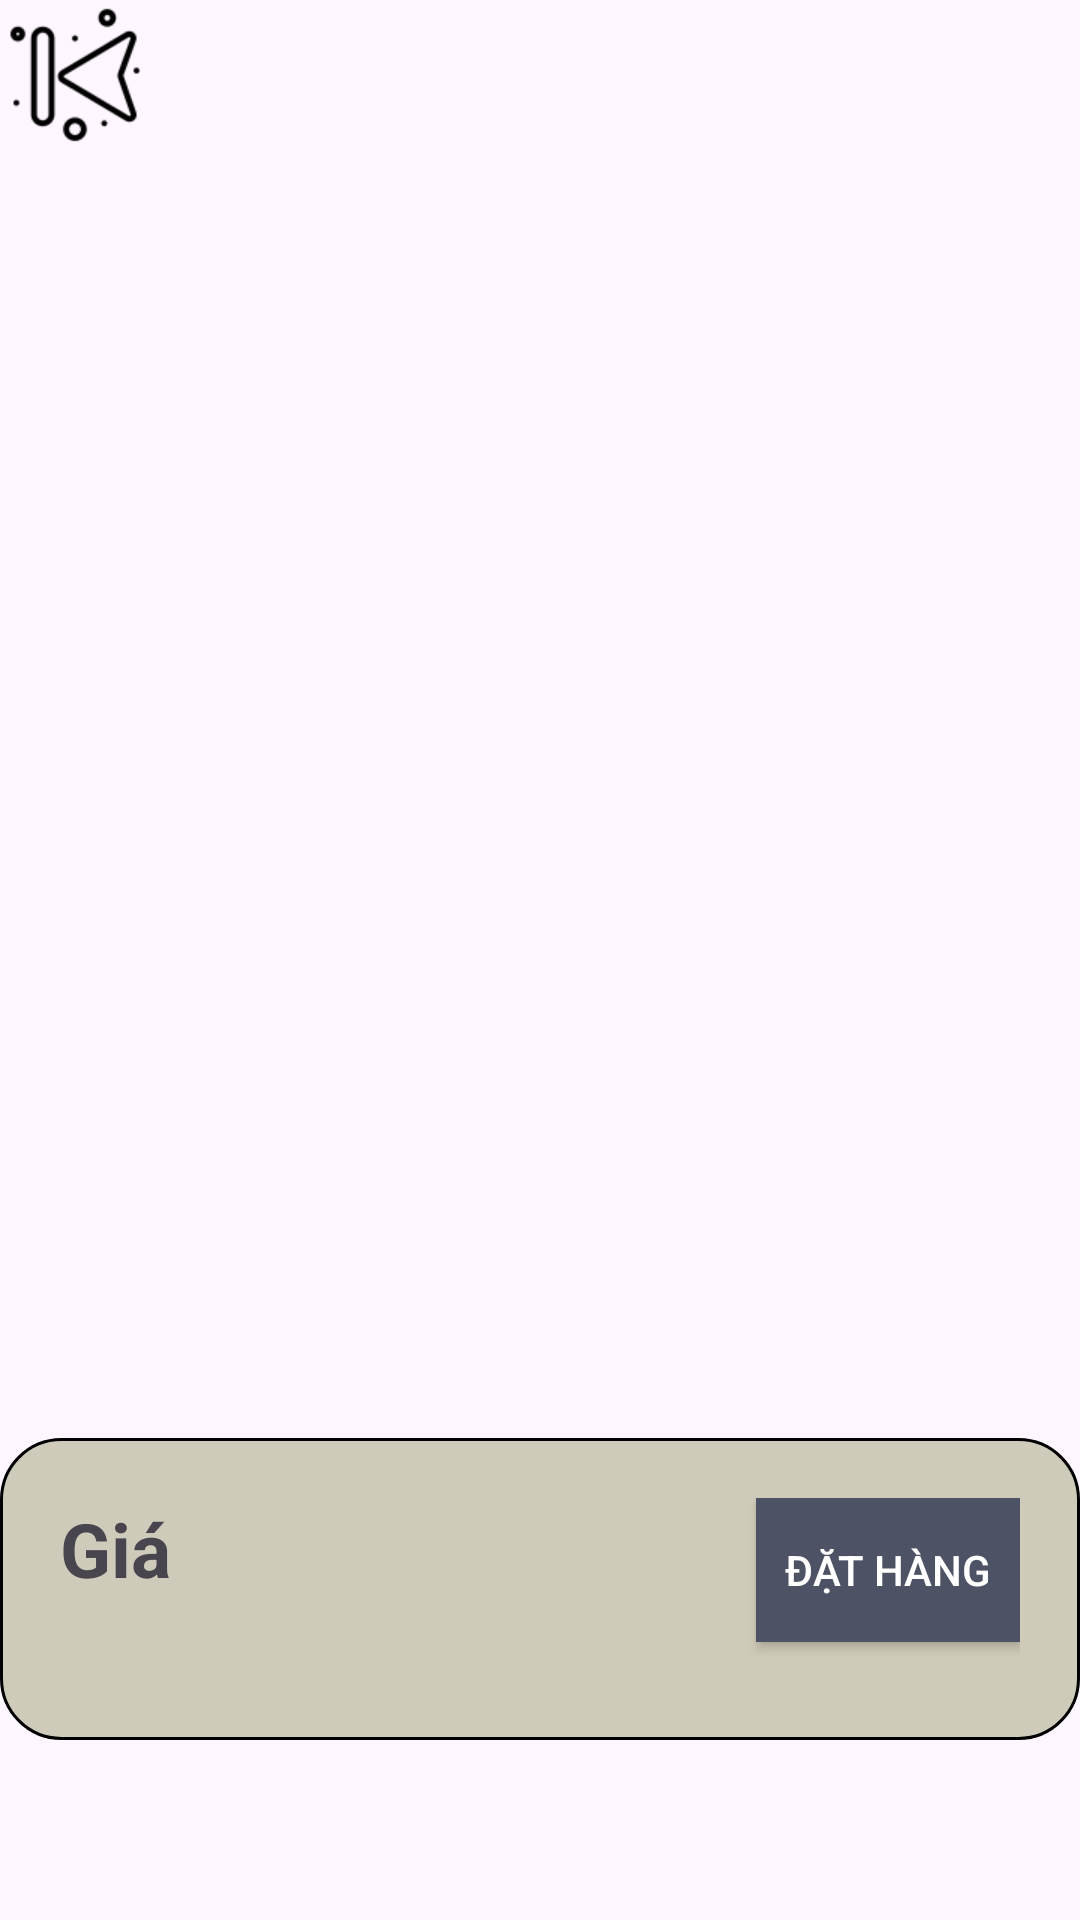

Point at icon controls on the screen. Image size 1080*1920, points as point (x, y).
back: point (75, 75)
